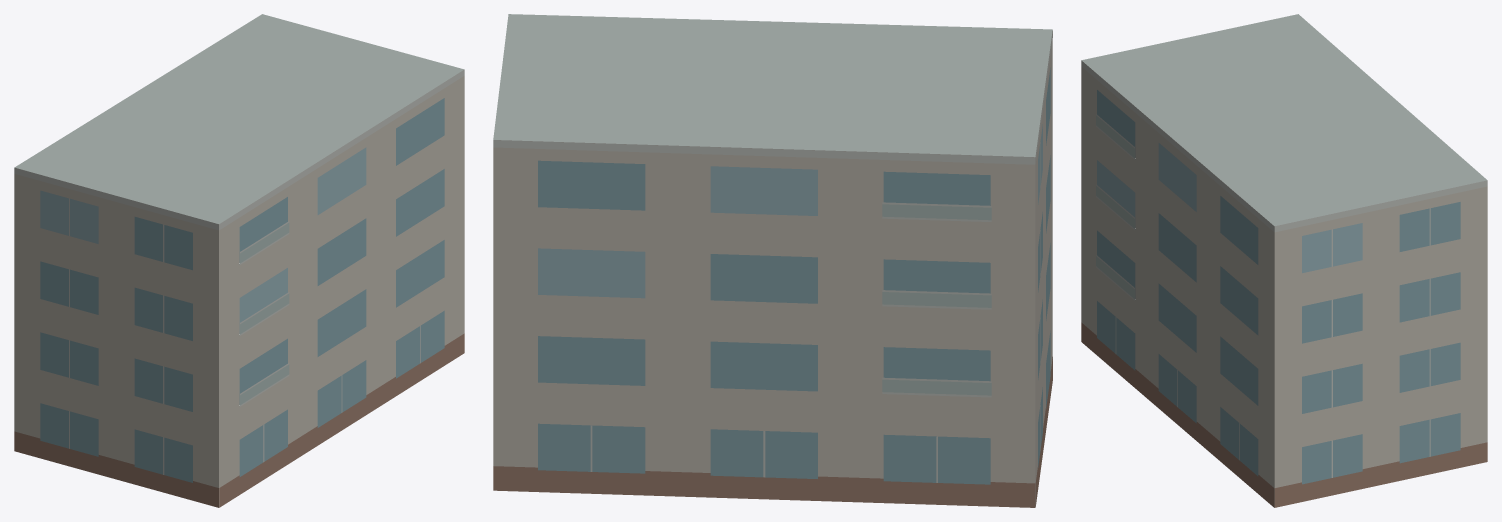
File: survey-upis-32964411.glb
3 views of the same model, side by side, from view 1: azimuth 30°, elevation 25°; view 2: azimuth 150°, elevation 25°; view 3: azimuth 270°, elevation 25° (orthographic). The views are drawn at different scales.
Visible parts, largest first — view 1: survey-upis-32964411.tmp; view 2: survey-upis-32964411.tmp; view 3: survey-upis-32964411.tmp.
Part boxes in pixels (<box>): survey-upis-32964411.tmp: <box>14,14,464,507</box>; survey-upis-32964411.tmp: <box>493,14,1052,507</box>; survey-upis-32964411.tmp: <box>1081,14,1487,507</box>.
Size of the model in its own units: 18.12 by 11.2 by 14.66.
